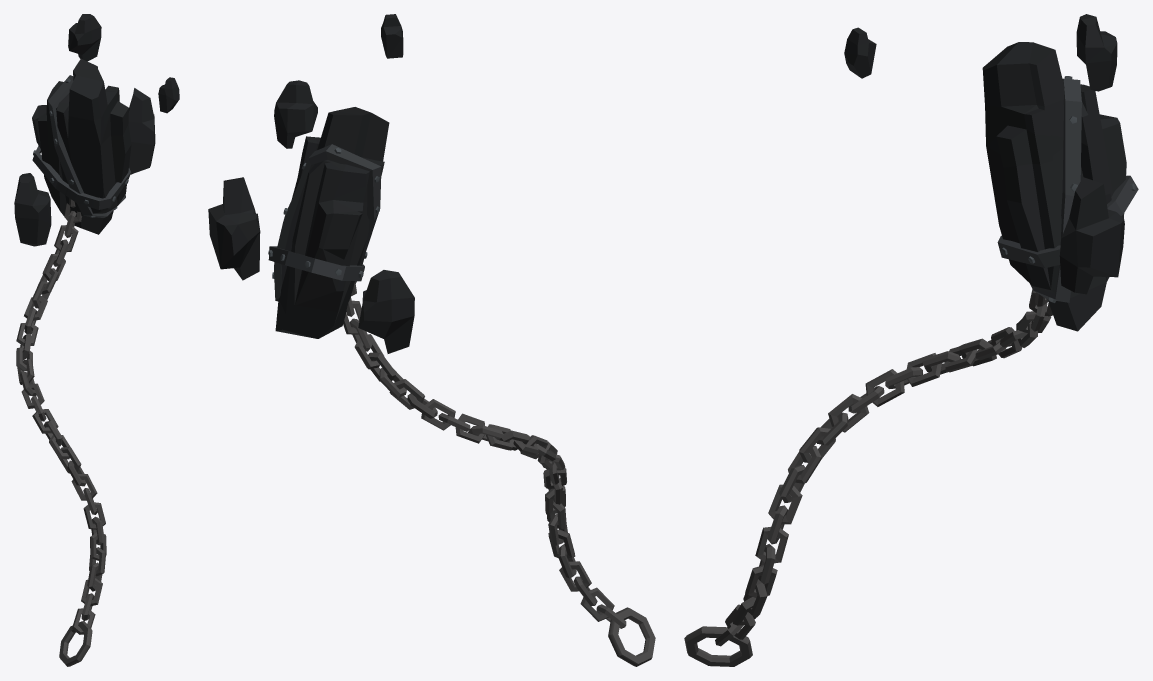
File: pit_floating_rock_b.gltf
The picture shows the model from 3 angles, left to right: view 1: azimuth 30°, elevation 25°; view 2: azimuth 150°, elevation 25°; view 3: azimuth 270°, elevation 25°; orthographic projection. The views are drawn at different scales.
Parts seen in each view (by area): view 1: pit_floating_rock_b; view 2: pit_floating_rock_b; view 3: pit_floating_rock_b.
Part boxes in pixels (x1,y1,x2,y2): pit_floating_rock_b: (14, 14, 179, 666); pit_floating_rock_b: (208, 14, 655, 666); pit_floating_rock_b: (684, 14, 1138, 666).
Size of the model in its own units: 24.45 by 54.87 by 30.02.
Materials: 1 (1 with a texture image).
